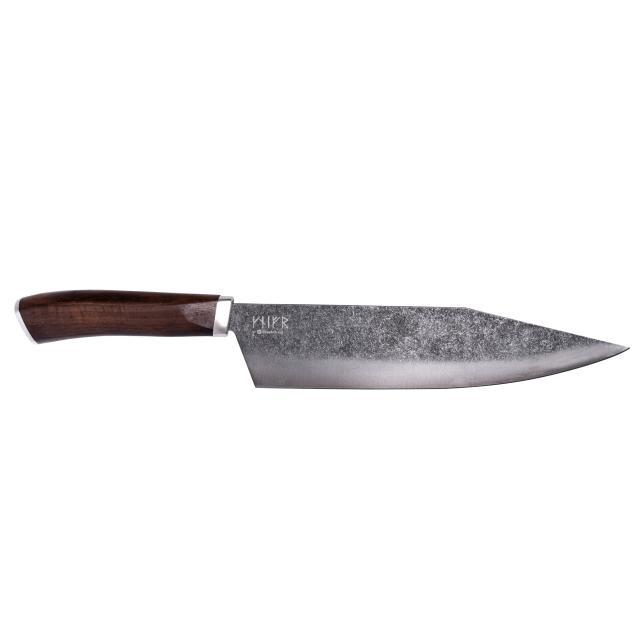Knife: (15, 288, 630, 390)
